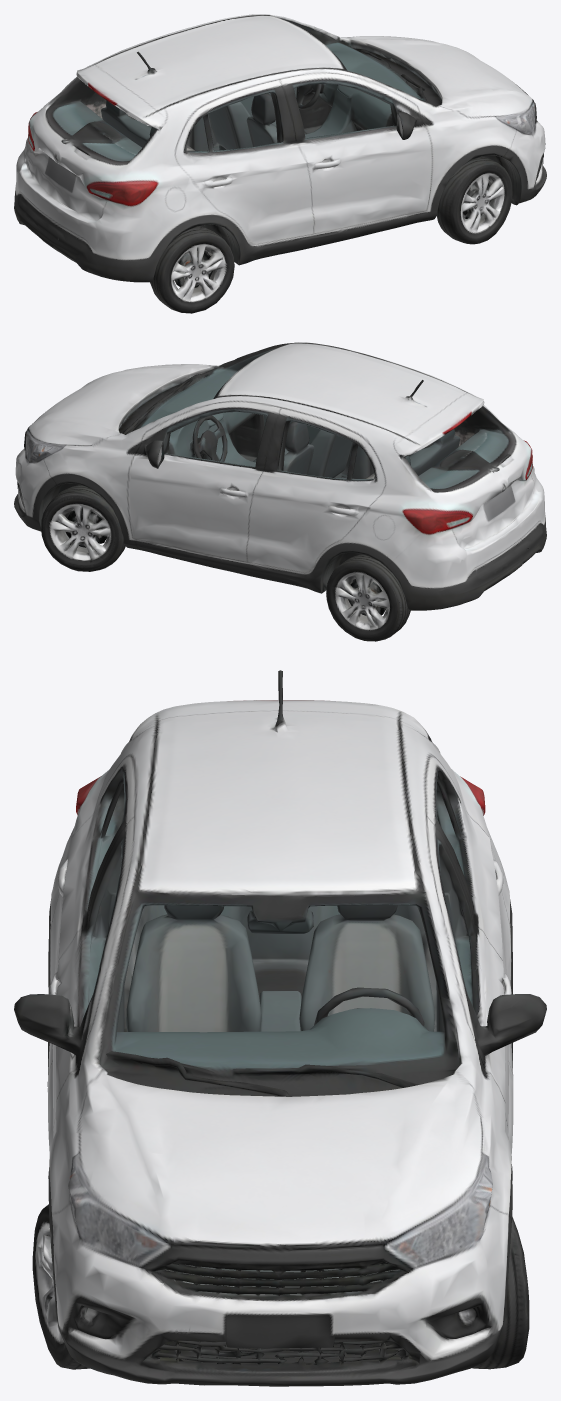
The model's file is compacto.glb.
The picture shows the model from 3 angles, top to bottom: view 1: azimuth 30°, elevation 25°; view 2: azimuth 150°, elevation 25°; view 3: azimuth 270°, elevation 25°; orthographic projection. The views are drawn at different scales.
Visible parts, largest first — view 1: tripo_node_bee968e3-3680-456c-a16a-e6a2ae710002; view 2: tripo_node_bee968e3-3680-456c-a16a-e6a2ae710002; view 3: tripo_node_bee968e3-3680-456c-a16a-e6a2ae710002.
Part boxes in pixels (box(x1,y1,x2,y2)): tripo_node_bee968e3-3680-456c-a16a-e6a2ae710002: box(14, 14, 546, 313); tripo_node_bee968e3-3680-456c-a16a-e6a2ae710002: box(14, 342, 546, 641); tripo_node_bee968e3-3680-456c-a16a-e6a2ae710002: box(14, 670, 546, 1386).
Bounding box in the file's own units: 3.39 × 1.5 × 1.71.
1 material, 1 textured.
